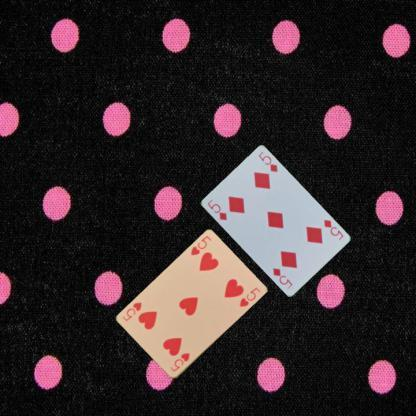5d: (204, 197, 228, 222), (320, 217, 344, 242)
5h: (188, 234, 213, 256), (168, 350, 191, 373)
